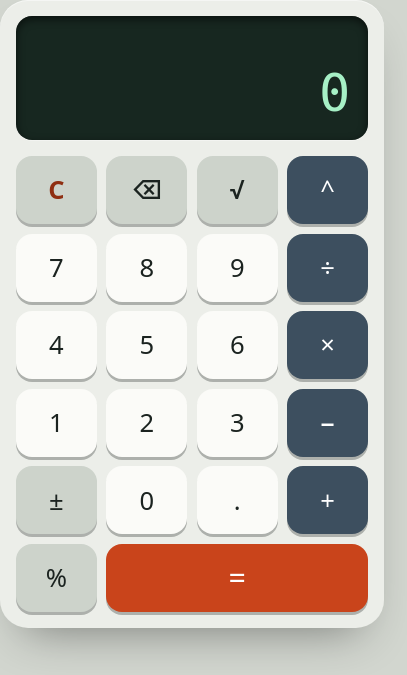
Calculator (physical keyboard) › does not re-press the focused on-screen key when Enter is hit
Click the button "3" at (237,423), box [197,389,278,457]
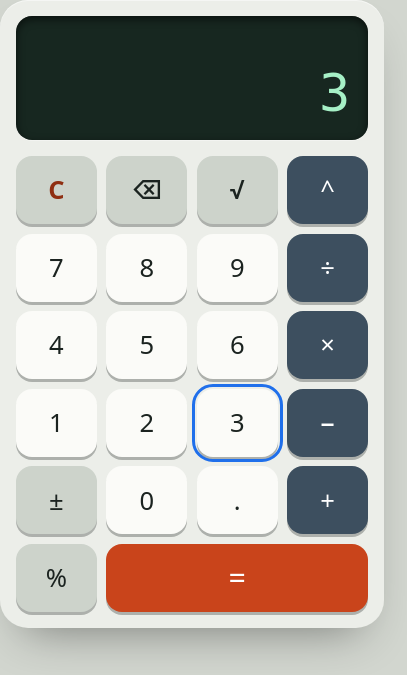
Click the button named "Add" at (328,500), box [287,466,368,534]
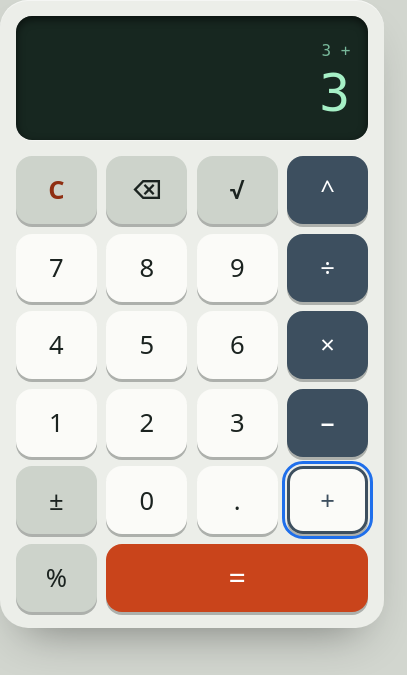
Click the button "4" at (56,345), box [16,311,97,379]
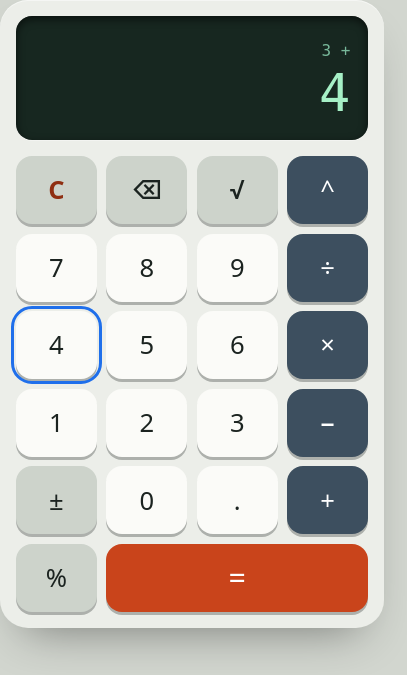
Press Enter
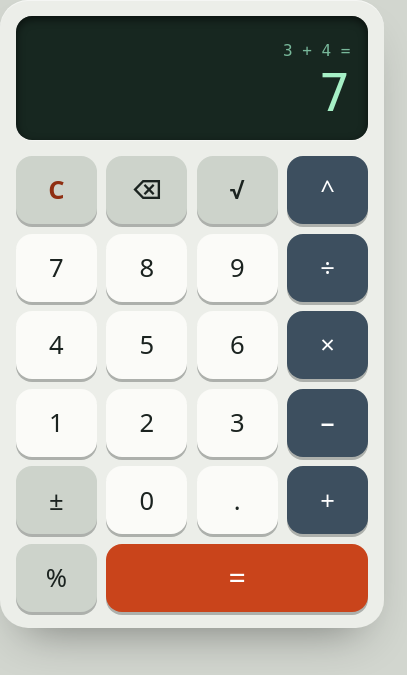
Check: the message reads "3 + 4 = 7", box [16,16,368,140]
